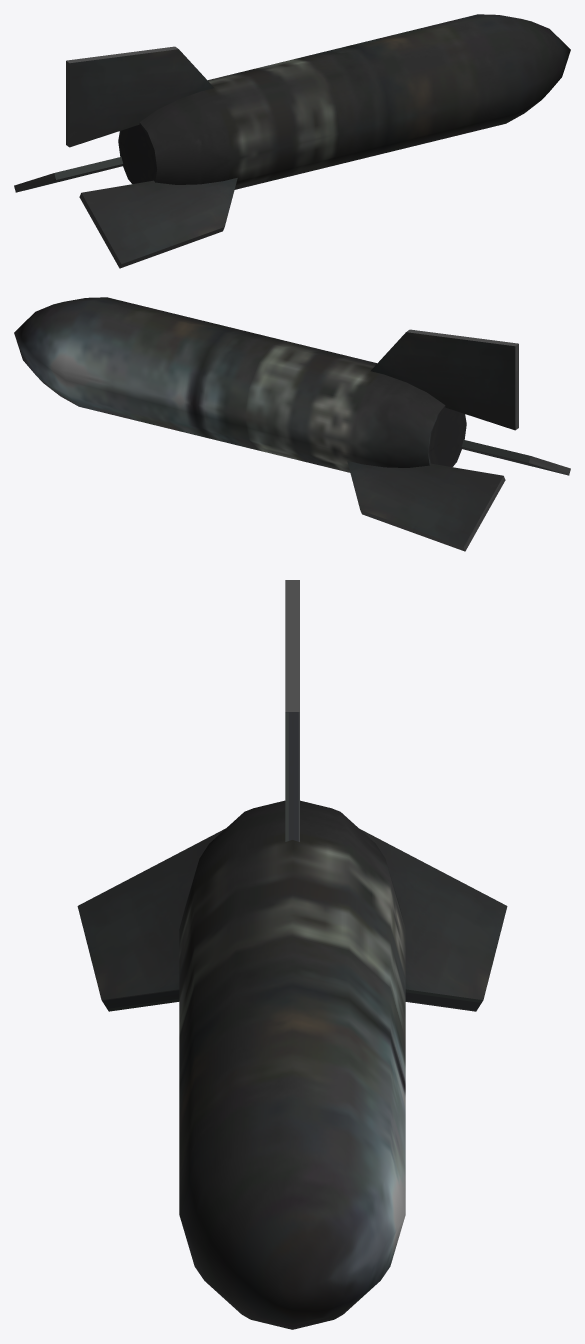
The model's file is Bomb_Missile_s.FBX.
3 renders of one model, top to bottom at view 1: azimuth 30°, elevation 25°; view 2: azimuth 150°, elevation 25°; view 3: azimuth 270°, elevation 25°, orthographic. The views are drawn at different scales.
Visible parts, largest first — view 1: Bomb_Missile_s; view 2: Bomb_Missile_s; view 3: Bomb_Missile_s.
Boxes of the visible parts, x1=… form: Bomb_Missile_s: x1=14, y1=14, x2=570, y2=268; Bomb_Missile_s: x1=14, y1=297, x2=570, y2=551; Bomb_Missile_s: x1=77, y1=580, x2=507, y2=1329.
Bounding box in the file's own units: 152 × 56.13 × 48.61.
1 material, 1 textured.
